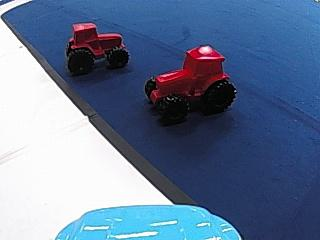Tracktor: (140, 43, 240, 120), (64, 18, 129, 72)
